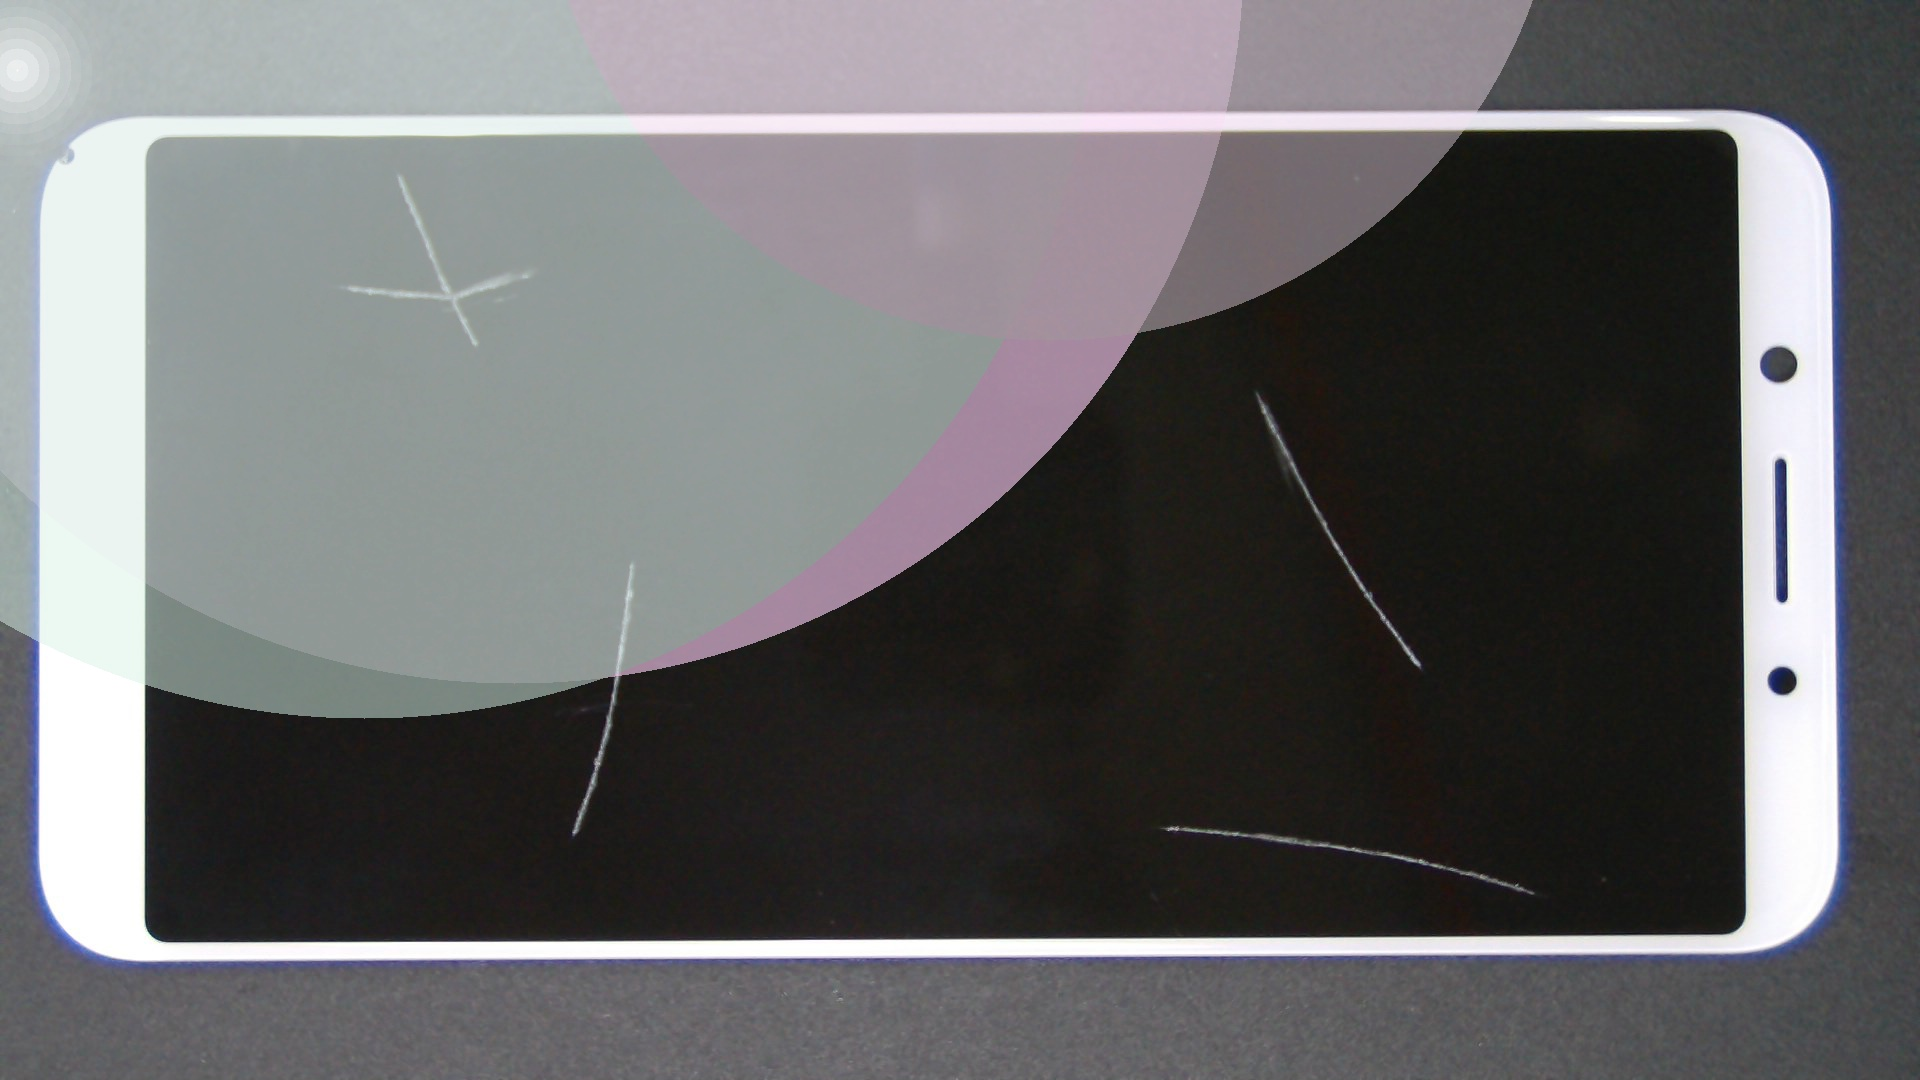oil: (585, 411, 1754, 1080), (628, 194, 1883, 589), (316, 280, 948, 840), (199, 84, 596, 256)
